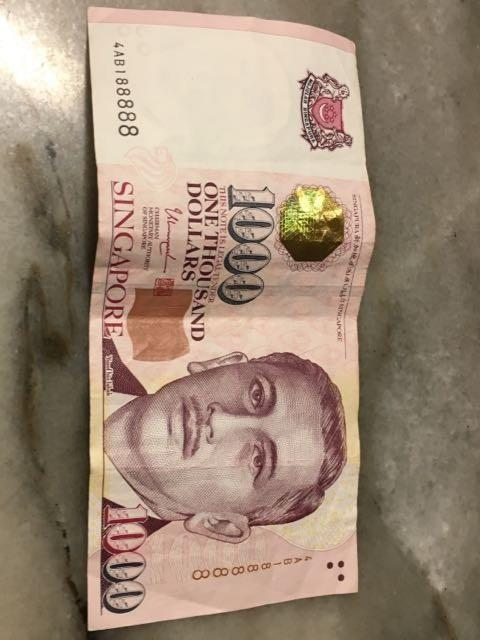1000SingaporeDollar: (98, 47, 355, 612)
